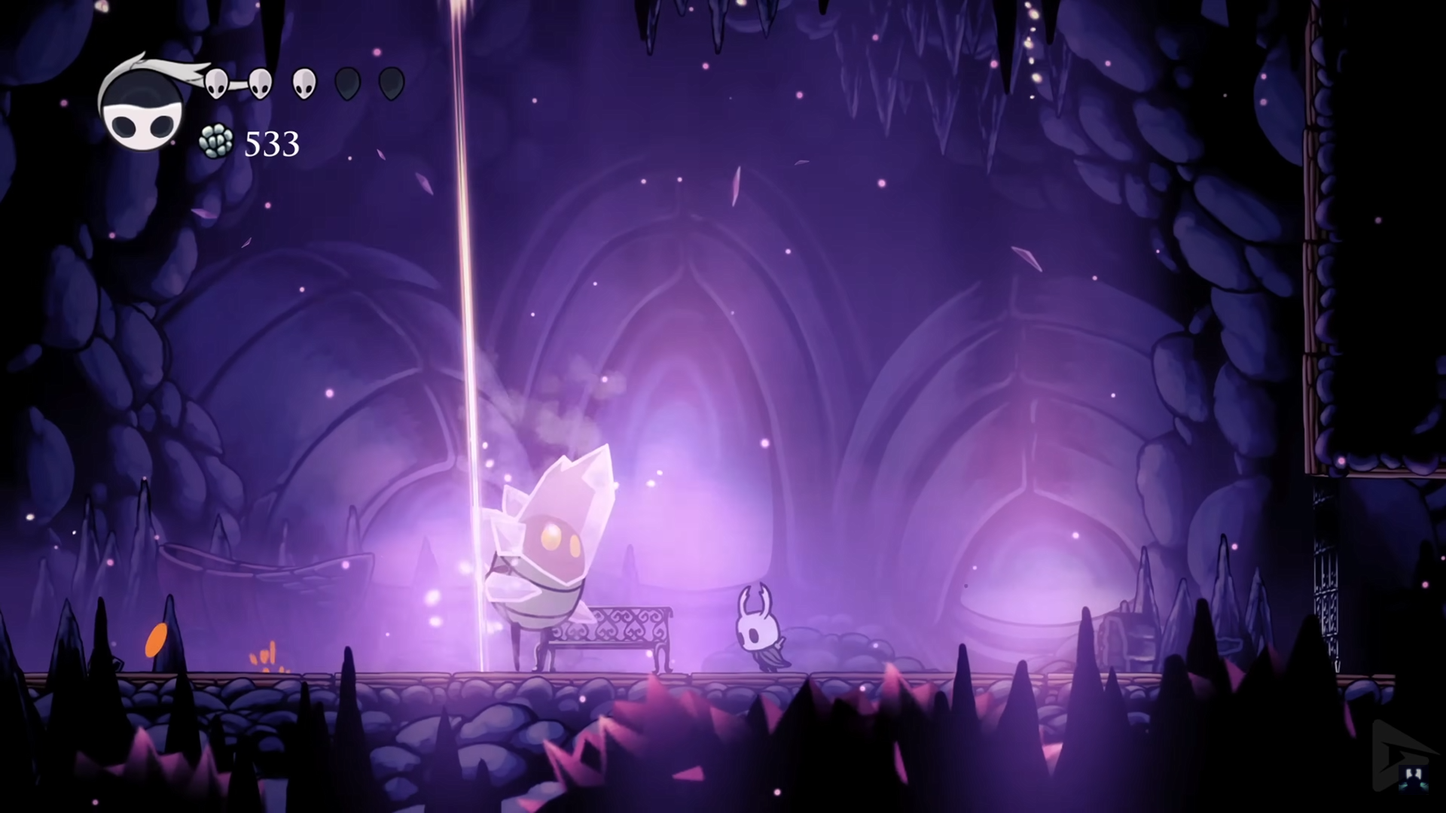HK: (731, 580, 793, 677)
